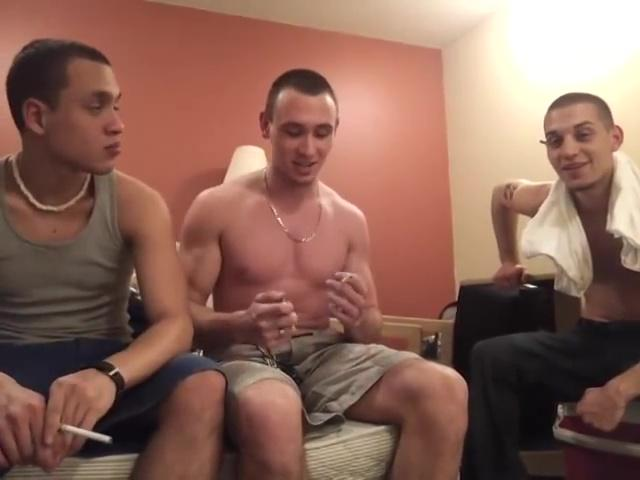cigarette: (60, 424, 115, 447), (339, 270, 357, 285)
